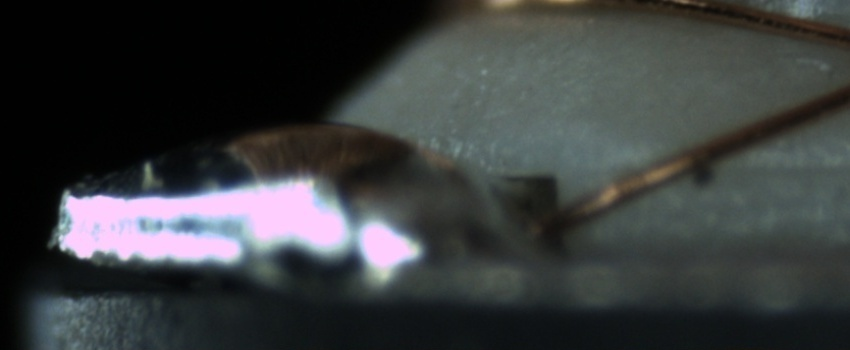DL: (692, 134, 849, 200)
